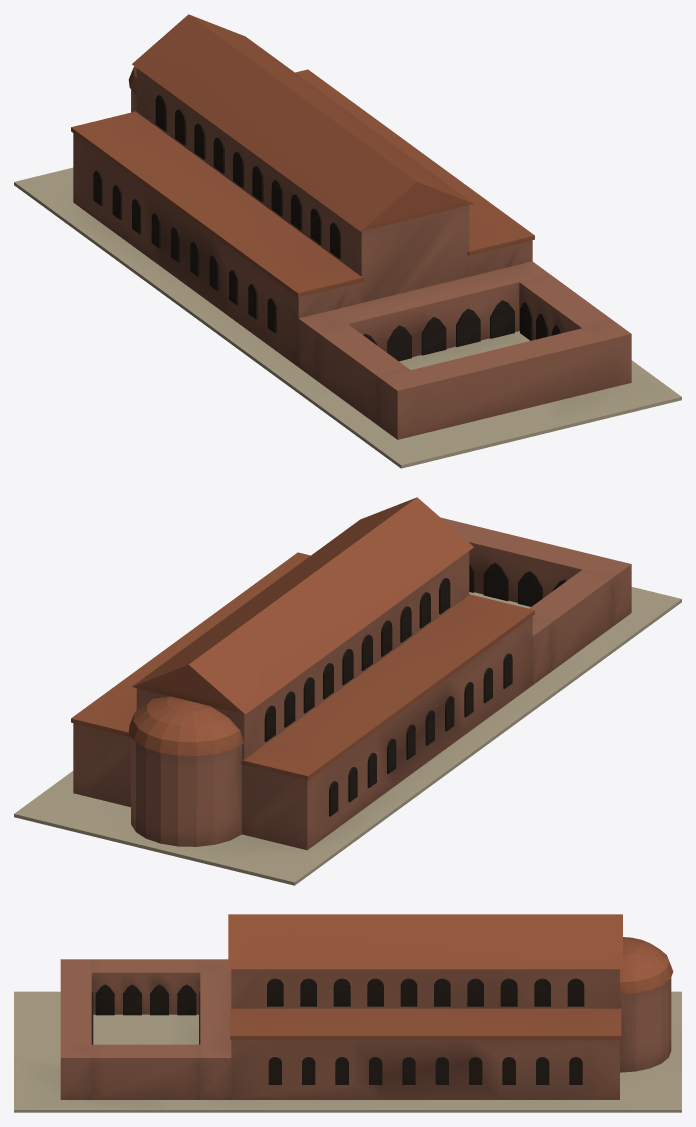
File: hagia-irene-basilica.glb
The picture shows the model from 3 angles, top to bottom: view 1: azimuth 30°, elevation 25°; view 2: azimuth 150°, elevation 25°; view 3: azimuth 270°, elevation 25°; orthographic projection. The views are drawn at different scales.
Parts seen in each view (by area): view 1: p1_church, p0_ground; view 2: p1_church, p0_ground; view 3: p1_church, p0_ground.
Boxes of the visible parts, bbox=[...] form: p1_church: bbox=[71, 14, 631, 439]; p0_ground: bbox=[14, 167, 681, 468]; p1_church: bbox=[71, 497, 631, 850]; p0_ground: bbox=[14, 587, 681, 885]; p1_church: bbox=[60, 914, 673, 1099]; p0_ground: bbox=[14, 991, 681, 1112].
Bounding box in the file's own units: 36 × 19.82 × 86.
